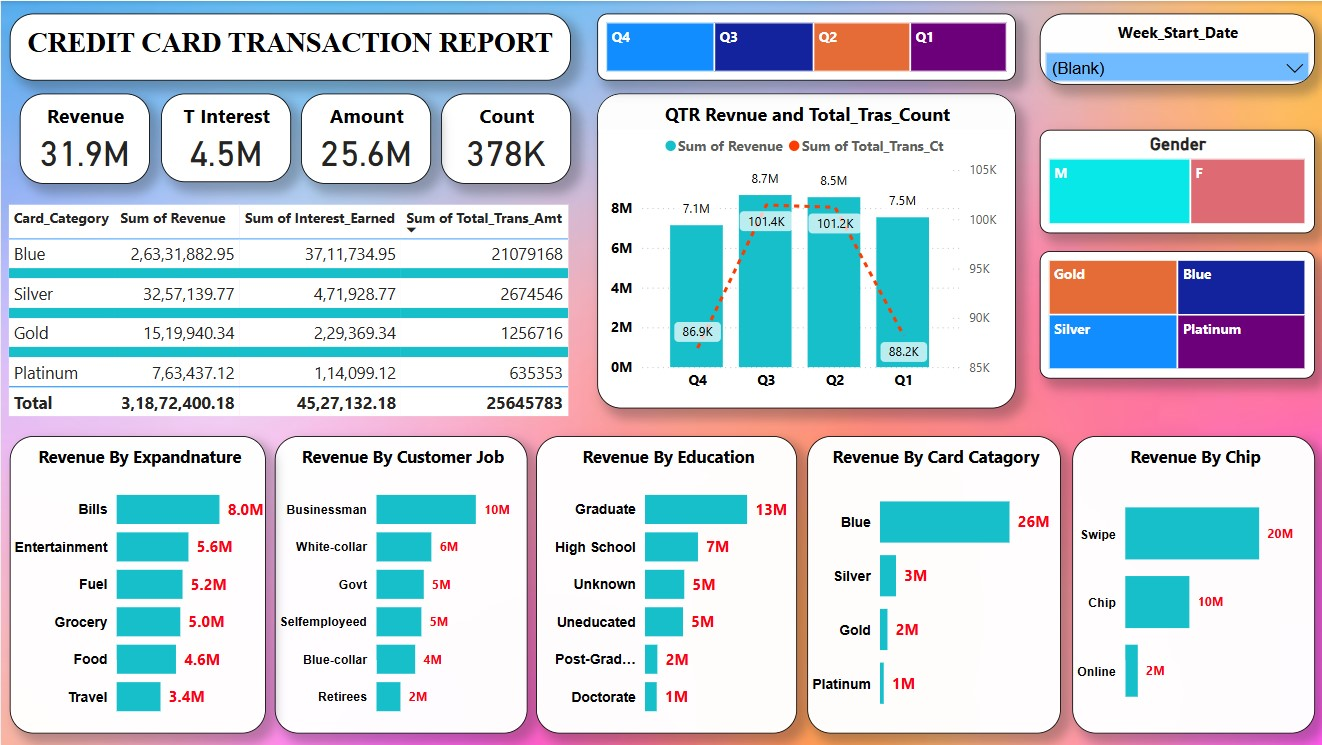

What the dashboard file says about the page in this screenshot:
{"tool":"powerbi","page":{"name":"CCTR1","canvas":[1280,720],"ordinal":0},"visuals":[{"type":"textbox","box":[8.4,12.1,541.7,65.1],"z":0},{"type":"lineStackedColumnComboChart","title":"QTR Revnue and Total_Tras_Count","fields":{"Category":["cc_detail.Qtr"],"Y":["Sum(cc_detail.Revenue)"],"Y2":["Sum(cc_detail.Total_Trans_Ct)"]},"box":[575.5,89.3,404.2,304],"z":1000},{"type":"barChart","title":"Revenue By Customer Job","fields":{"Y":["Sum(cc_detail.Revenue)"],"Category":["cust_detail.Customer_Job"]},"box":[264.2,419.8,243.7,287.1],"z":2000},{"type":"barChart","title":"Revenue By Expandnature ","fields":{"Y":["Sum(cc_detail.Revenue)"],"Category":["cc_detail.Exp_Type"]},"box":[8.4,419.8,247.3,287.1],"z":3000},{"type":"barChart","title":"Revenue By Education","fields":{"Y":["Sum(cc_detail.Revenue)"],"Category":["cust_detail.Education_Level"]},"box":[516.4,419.8,252.1,287.1],"z":4000},{"type":"barChart","title":"Revenue By Card Catagory","fields":{"Y":["Sum(cc_detail.Revenue)"],"Category":["cc_detail.Card_Category"]},"box":[778.2,419.8,244.9,287.1],"z":5000},{"type":"barChart","title":"Revenue By Chip","fields":{"Y":["Sum(cc_detail.Revenue)"],"Category":["cc_detail.Use_Chip"]},"box":[1033.9,419.8,234,287.1],"z":6000},{"type":"tableEx","fields":{"Values":["cc_detail.Card_Category","Sum(cc_detail.Revenue)","Sum(cc_detail.Interest_Earned)","Sum(cc_detail.Total_Trans_Amt)"]},"box":[1.2,191.8,557.4,217.2],"z":7000},{"type":"card","title":"Count","fields":{"Values":["Sum(cc_detail.Total_Trans_Ct)"]},"box":[424.7,89.3,125.5,86.9],"z":8000},{"type":"card","title":"Revenue","fields":{"Values":["Sum(cc_detail.Revenue)"]},"box":[18.1,89.3,125.5,86.9],"z":9000},{"type":"card","title":"T Interest ","fields":{"Values":["Sum(cc_detail.Interest_Earned)"]},"box":[154.4,89.3,125.5,85.7],"z":10000},{"type":"slicer","title":"Week_Start_Date","fields":{"Values":["cc_detail.Week_Start_Date"]},"box":[1002.6,12.1,265.4,68.8],"z":11000},{"type":"treemap","fields":{"Group":["cc_detail.Qtr"],"Values":["Avg(cc_detail.Client_Num)"]},"box":[575.5,12.1,404.2,65.1],"z":12000},{"type":"card","title":"Amount","fields":{"Values":["Sum(cc_detail.Total_Trans_Amt)"]},"box":[289.5,89.3,125.5,86.9],"z":13000},{"type":"treemap","title":"Gender","fields":{"Group":["cust_detail.Gender"],"Values":["Sum(cc_detail.Revenue)"]},"box":[1002.6,124.3,265.4,100.1],"z":14000},{"type":"treemap","fields":{"Group":["cc_detail.Card_Category"],"Values":["Avg(cc_detail.Client_Num)"]},"box":[1002.6,241.3,265.4,123.1],"z":15000}]}

Visuals, with their boxes in screenshot pixels (x1, y1, x2, y2), scaled from the page's 1280x720 canvas onto the 1322x745 screenshot:
textbox: 9:13:568:80
"QTR Revnue and Total_Tras_Count" lineStackedColumnComboChart: 594:92:1012:407
"Revenue By Customer Job" barChart: 273:434:525:731
"Revenue By Expandnature " barChart: 9:434:264:731
"Revenue By Education" barChart: 533:434:794:731
"Revenue By Card Catagory" barChart: 804:434:1057:731
"Revenue By Chip" barChart: 1068:434:1310:731
tableEx - cc_detail.Card_Category x Sum(cc_detail.Revenue): 1:198:577:423
"Count" card: 439:92:568:182
"Revenue" card: 19:92:148:182
"T Interest " card: 159:92:289:181
"Week_Start_Date" slicer: 1035:13:1310:84
treemap - cc_detail.Qtr x Avg(cc_detail.Client_Num): 594:13:1012:80
"Amount" card: 299:92:429:182
"Gender" treemap: 1035:129:1310:232
treemap - cc_detail.Card_Category x Avg(cc_detail.Client_Num): 1035:250:1310:377
